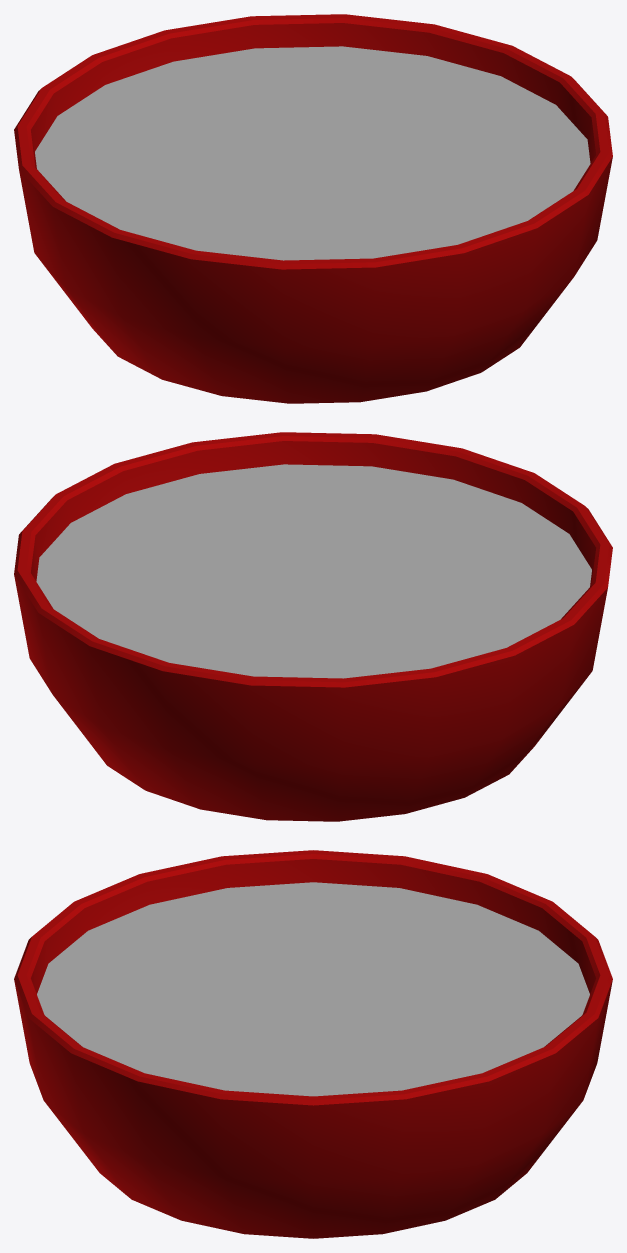
File: SakeCup.fbx
3 views of the same model, one above another, from view 1: azimuth 30°, elevation 25°; view 2: azimuth 150°, elevation 25°; view 3: azimuth 270°, elevation 25° (orthographic).
Visible parts, largest first — view 1: sakeCup, sakeLiquid; view 2: sakeCup, sakeLiquid; view 3: sakeCup, sakeLiquid.
Boxes of the visible parts, <box> form: sakeCup: <box>14,14,612,403</box>; sakeLiquid: <box>35,46,590,260</box>; sakeCup: <box>14,432,612,821</box>; sakeLiquid: <box>36,464,591,678</box>; sakeCup: <box>14,850,612,1238</box>; sakeLiquid: <box>37,882,589,1096</box>.
Size of the model in its own units: 2 by 0.6198 by 2.
